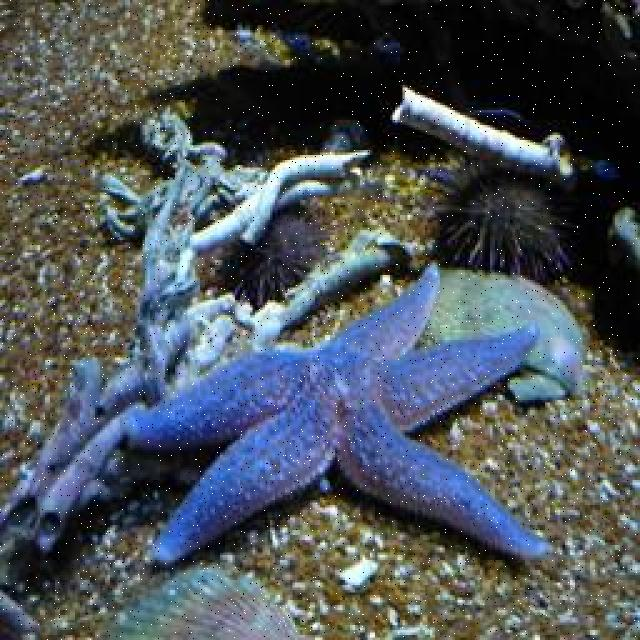reefs: (118, 261, 552, 564)
